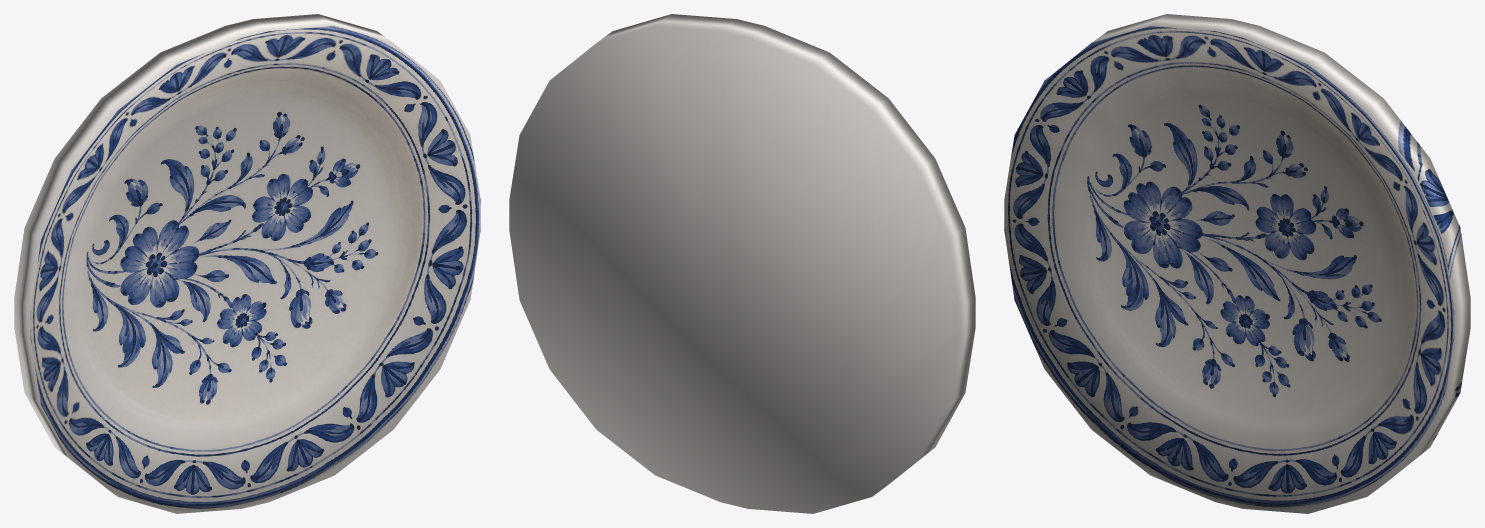
Rendered from Piring 3.fbx.
3 renders of one model, left to right at view 1: azimuth 30°, elevation 25°; view 2: azimuth 150°, elevation 25°; view 3: azimuth 330°, elevation 25°, orthographic.
Visible parts, largest first — view 1: Piring 3; view 2: Piring 3; view 3: Piring 3.
Part boxes in pixels (x1=…): Piring 3: x1=14, y1=14, x2=480, y2=513; Piring 3: x1=509, y1=14, x2=975, y2=513; Piring 3: x1=1004, y1=14, x2=1470, y2=513.
Size of the model in its own units: 126 by 126 by 8.03.
